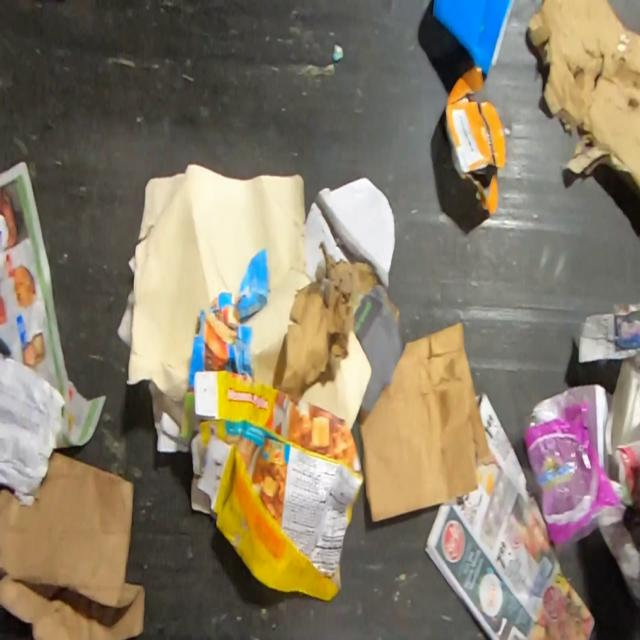cardboard: (188, 369, 364, 602), (356, 319, 497, 523), (0, 448, 146, 640), (525, 0, 640, 201), (276, 244, 404, 412), (532, 357, 640, 473), (188, 248, 270, 391), (306, 174, 397, 290), (442, 63, 507, 217), (431, 0, 515, 77)
soft_plastic: (520, 393, 635, 555)
